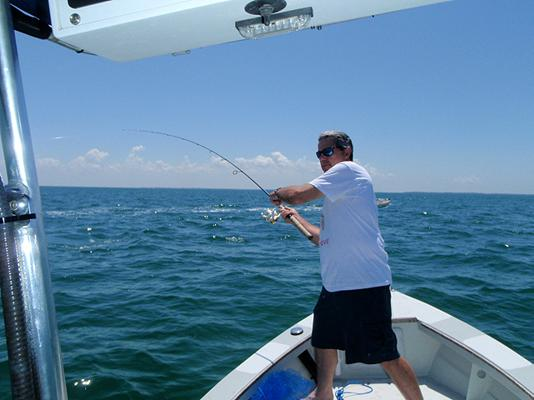person: (270, 130, 424, 400)
